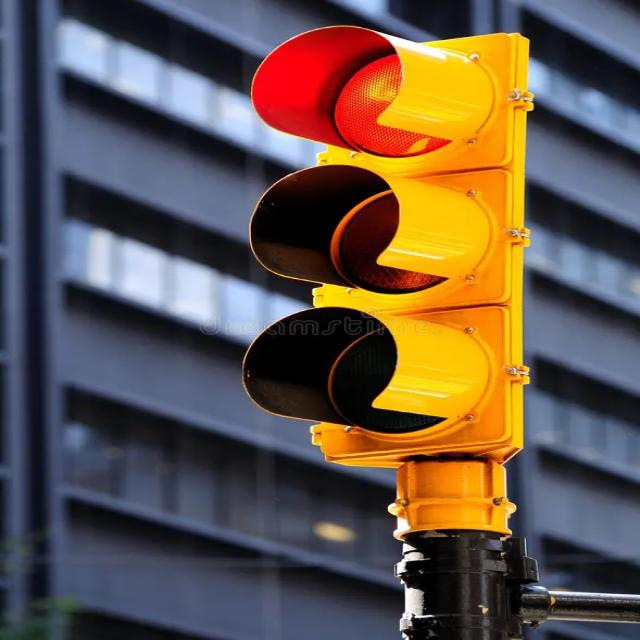red: (272, 35, 514, 159)
